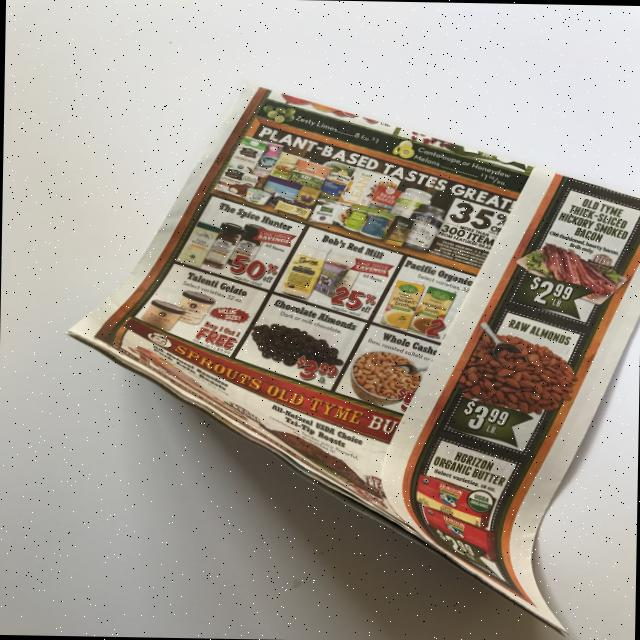paper: (60, 80, 640, 638)
